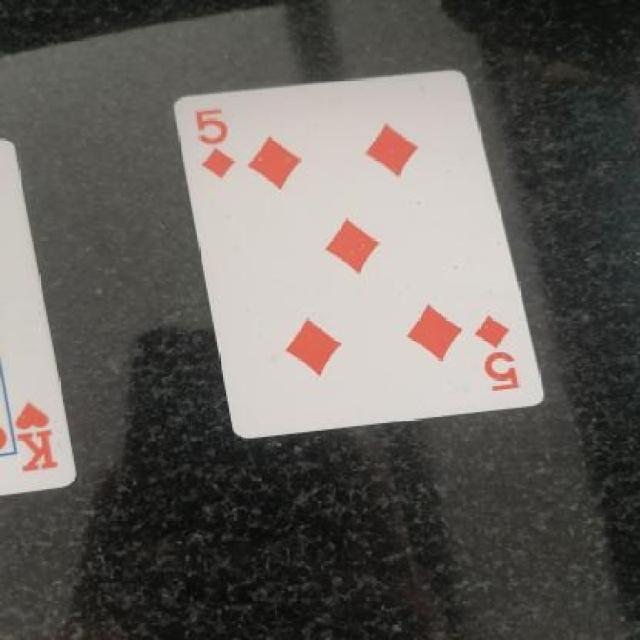5D: (190, 104, 238, 201)
KH: (8, 384, 72, 498)
